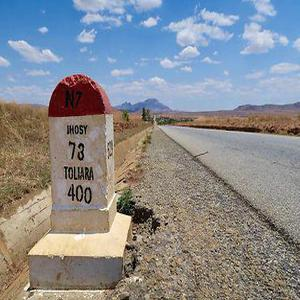kmstone: (42, 68, 119, 241)
